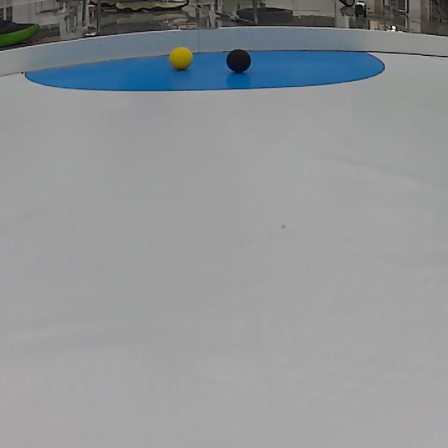black: (226, 48, 252, 74)
blue_base: (22, 51, 389, 90)
yellow: (170, 47, 195, 70)
